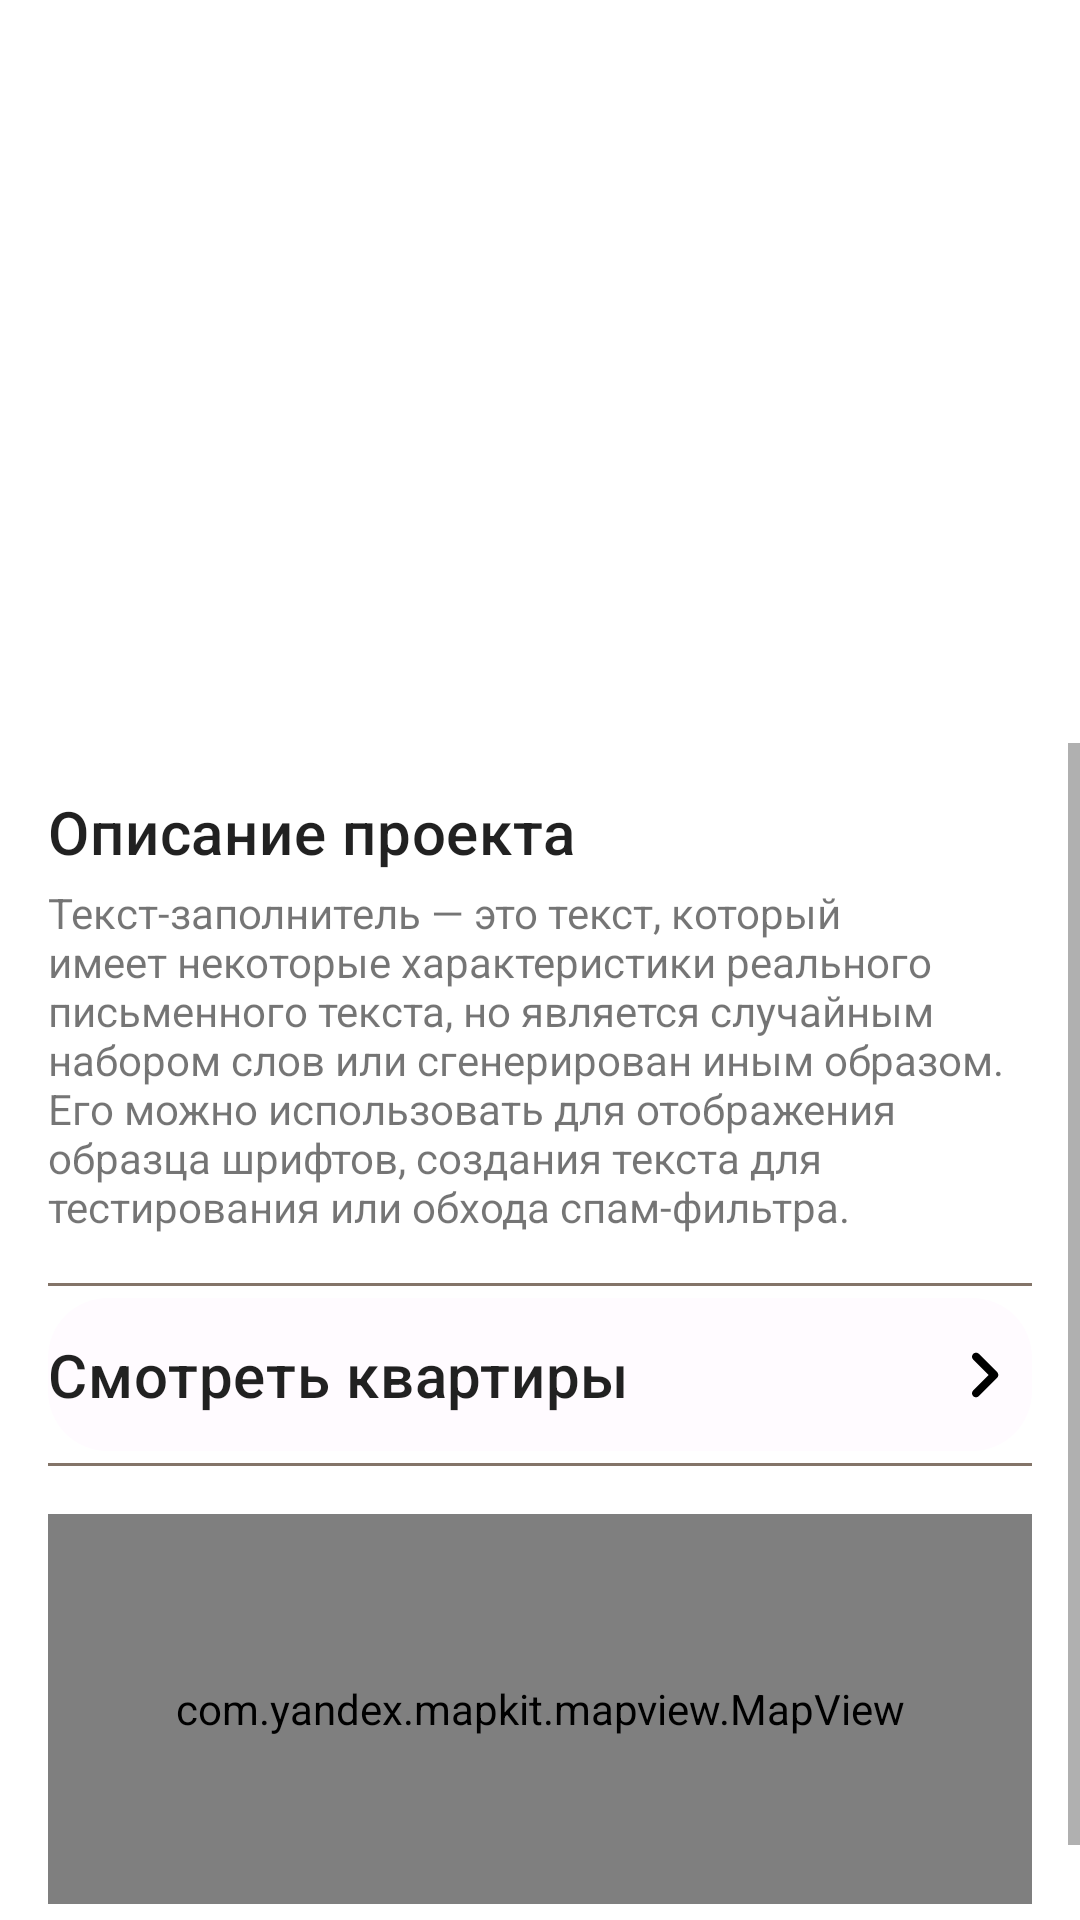

Named icons in this screenshot (1080*1920) and their bounding boxes, (x1, y1, x2, y2):
chevron right: (972, 1352, 999, 1398)
